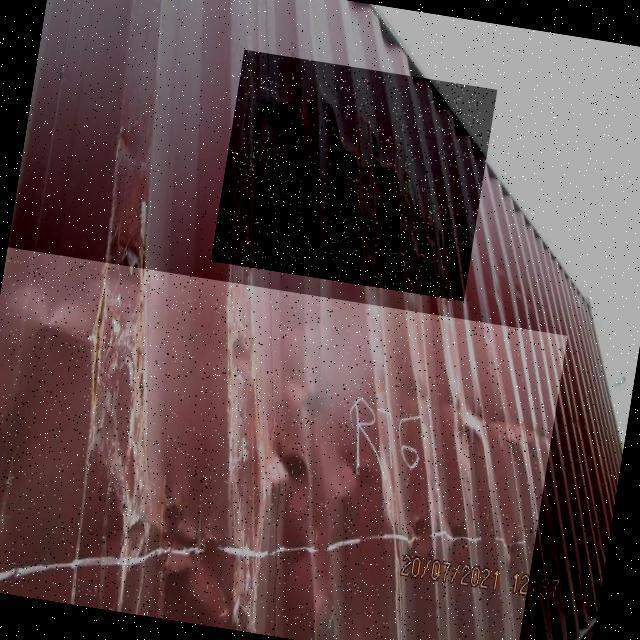Dent: (0, 247, 567, 640), (211, 51, 498, 304)
